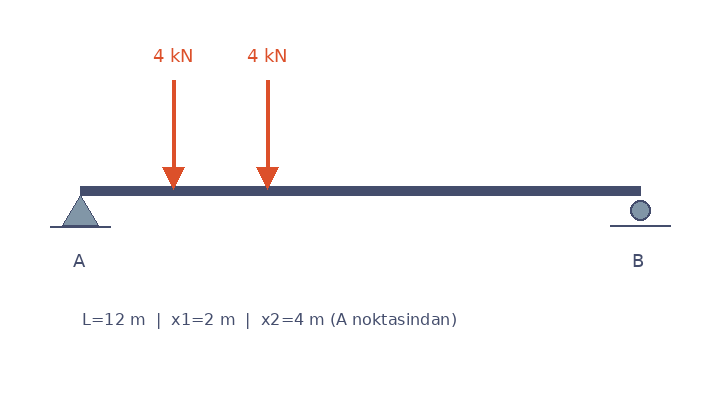pin_support: (61, 190, 99, 226)
point_load: (159, 76, 187, 190), (253, 76, 281, 190)
roller_support: (625, 196, 655, 227)
